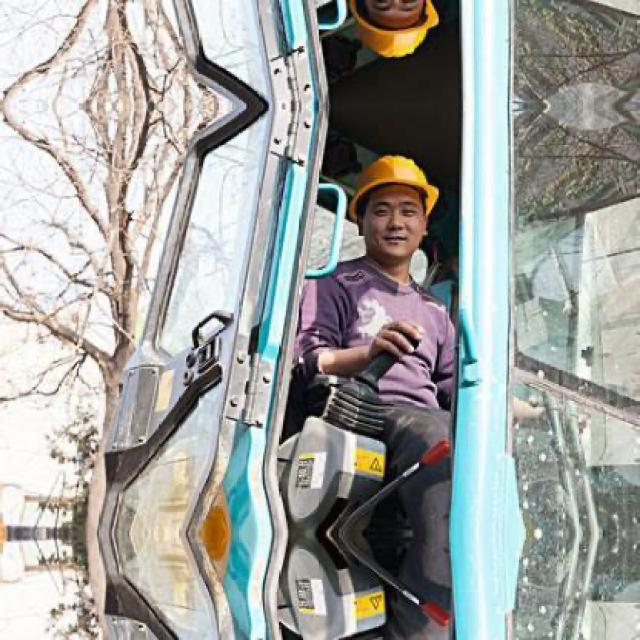con casco: (331, 136, 451, 272)
